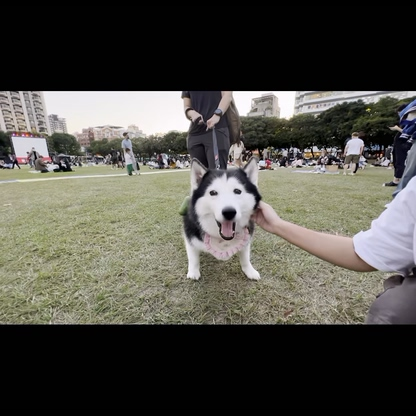husky: (175, 155, 272, 288)
